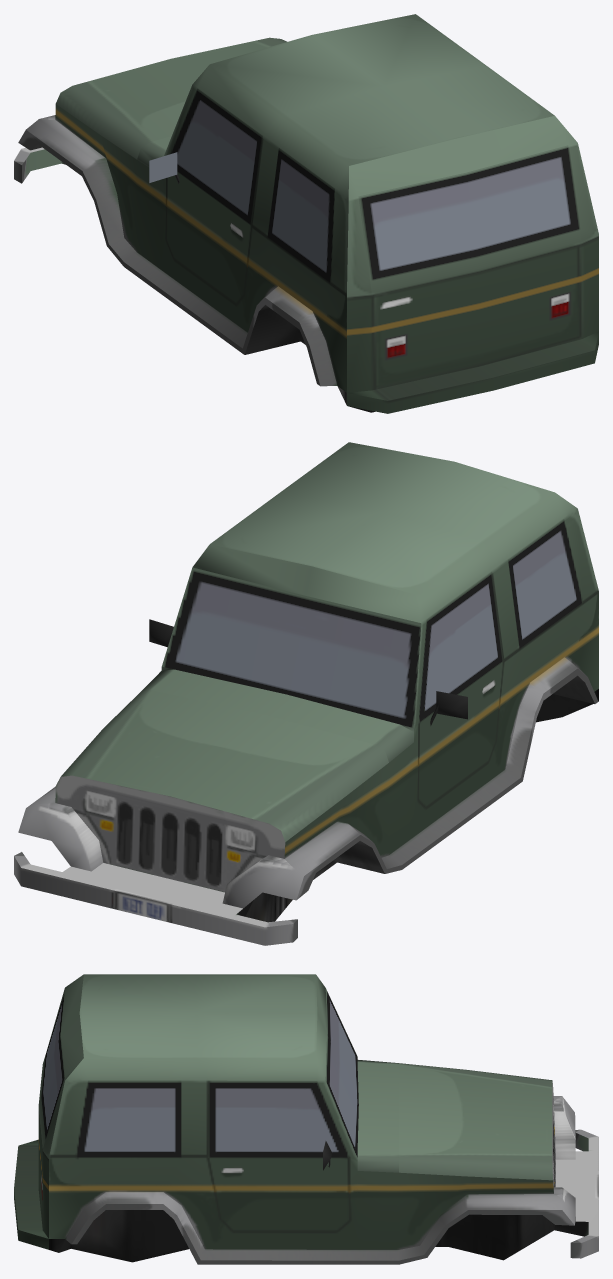
The model's file is Vehicles_OffRoad.FBX.
3 renders of one model, top to bottom at view 1: azimuth 30°, elevation 25°; view 2: azimuth 150°, elevation 25°; view 3: azimuth 270°, elevation 25°, orthographic. The views are drawn at different scales.
Visible parts, largest first — view 1: Vehicles_OffRoad; view 2: Vehicles_OffRoad; view 3: Vehicles_OffRoad.
Boxes of the visible parts, <box> form: Vehicles_OffRoad: <box>14,14,598,413</box>; Vehicles_OffRoad: <box>14,442,598,945</box>; Vehicles_OffRoad: <box>14,974,598,1264</box>.
Bounding box in the file's own units: 95.64 × 76.33 × 182.
Materials: 1 (1 with a texture image).
